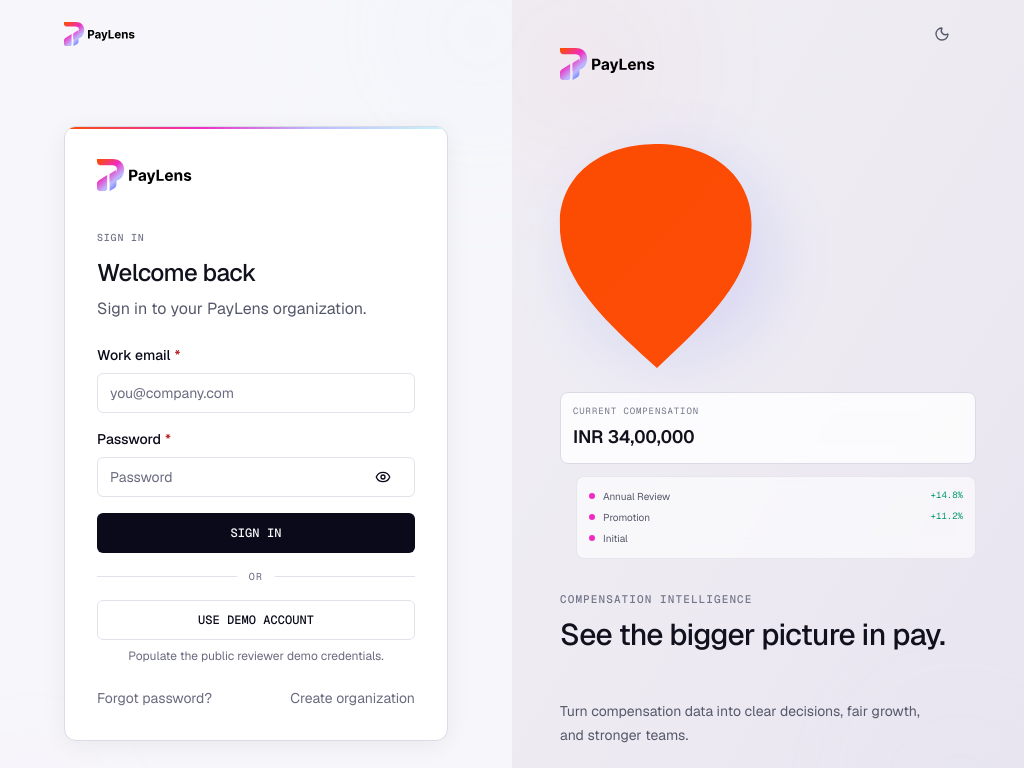
Scenario: login demo account › fills the exact reviewer credentials without submitting
The width and height of the screenshot is (1024, 768).
Expected: the field with placeholder "you@company.com" is empty, [97, 373, 415, 413]
Step 1. Click the button "Use Demo Account" → (256, 620), box [97, 600, 415, 640]
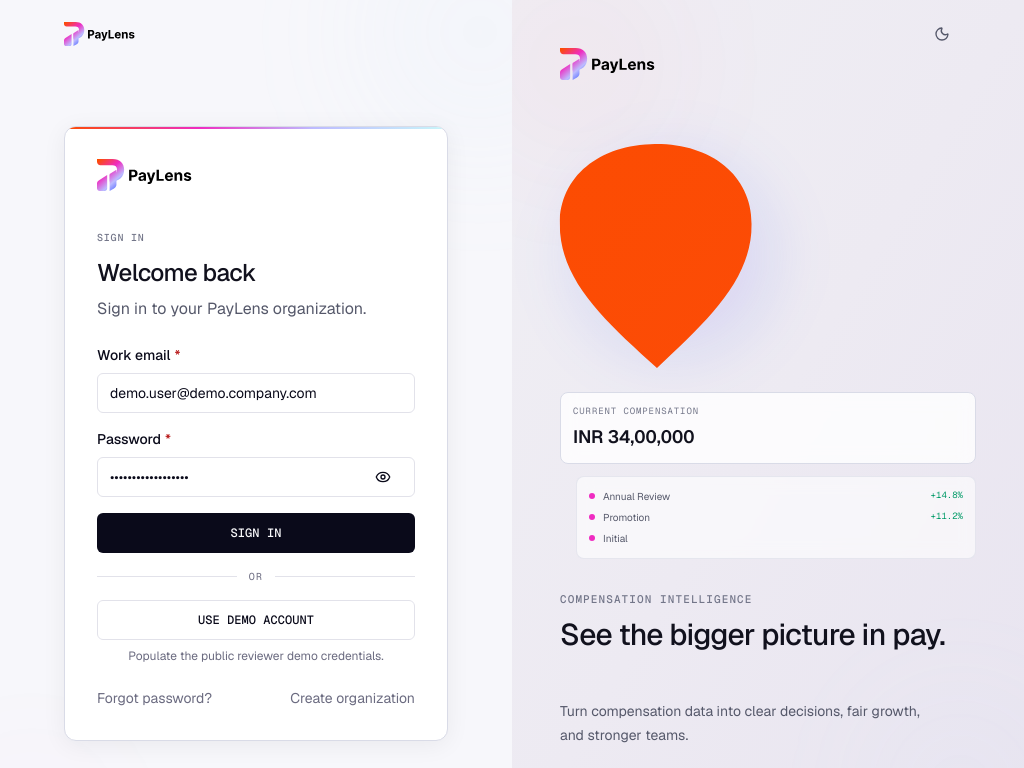
Now the field with placeholder "you@company.com" holds "demo.user@demo.company.com", box [97, 373, 415, 413]
Now the password field with placeholder "Password" holds "ThereWeGoAgain@123", box [97, 457, 415, 497]
